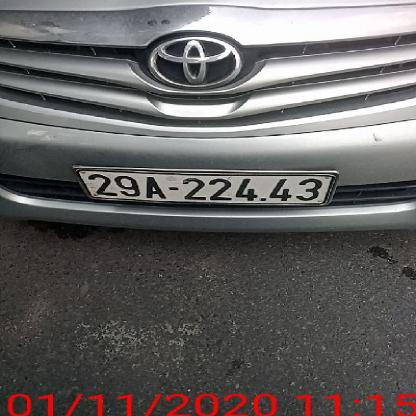biensoxe: (73, 161, 339, 209)
